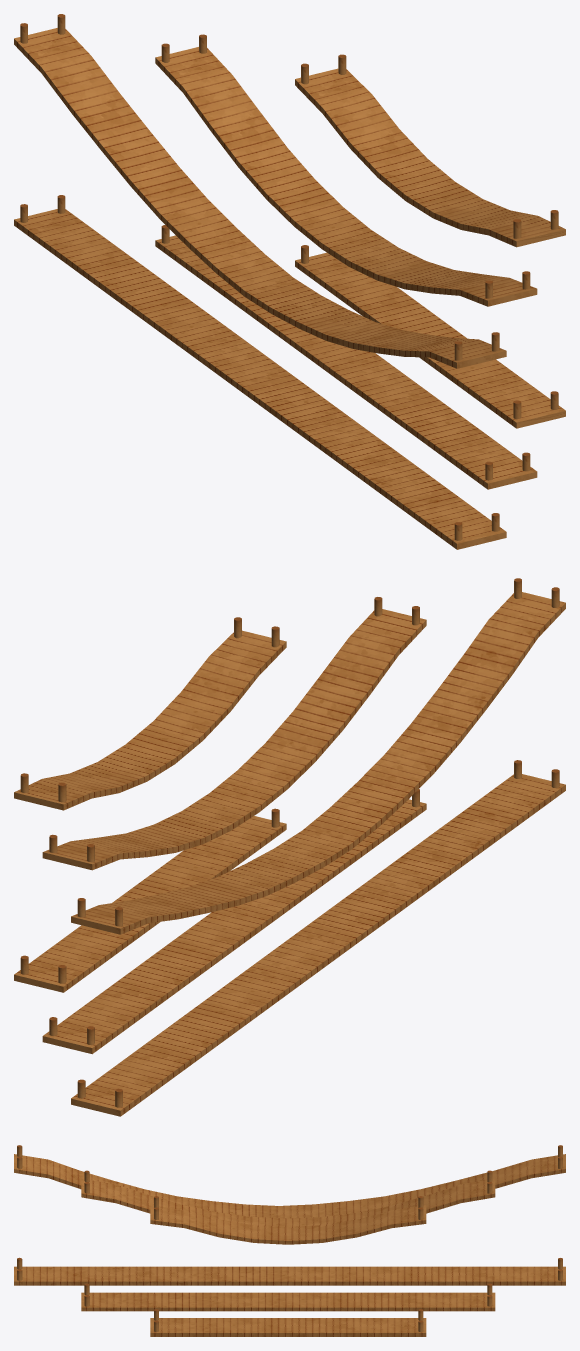
File: Bridges_V01.fbx
The picture shows the model from 3 angles, top to bottom: view 1: azimuth 30°, elevation 25°; view 2: azimuth 150°, elevation 25°; view 3: azimuth 270°, elevation 25°; orthographic projection. The views are drawn at different scales.
Visible parts, largest first — view 1: BigBridgeCurved, BigBridge, MidBridgeCurved, MidBridge, SmallBridgeCurved, SmallBridge; view 2: BigBridgeCurved, BigBridge, MidBridgeCurved, MidBridge, SmallBridgeCurved, SmallBridge; view 3: BigBridge, MidBridge, BigBridgeCurved, SmallBridge, SmallBridgeCurved, MidBridgeCurved.
Boxes of the visible parts, box(x1,y1,x2,y2) form: BigBridgeCurved: box(14, 14, 506, 368); BigBridge: box(14, 195, 506, 549); MidBridgeCurved: box(155, 34, 537, 306); MidBridge: box(155, 225, 537, 489); SmallBridgeCurved: box(295, 54, 565, 247); SmallBridge: box(295, 245, 565, 428); BigBridgeCurved: box(71, 578, 565, 934); BigBridge: box(71, 760, 565, 1116); MidBridgeCurved: box(42, 597, 426, 870); MidBridge: box(42, 789, 426, 1054); SmallBridgeCurved: box(14, 617, 286, 810); SmallBridge: box(14, 808, 286, 992); BigBridge: box(14, 1257, 565, 1285); MidBridge: box(81, 1283, 495, 1311); BigBridgeCurved: box(14, 1145, 565, 1218); SmallBridge: box(150, 1309, 426, 1336); SmallBridgeCurved: box(150, 1196, 426, 1244); MidBridgeCurved: box(81, 1170, 495, 1226).
Size of the model in its own units: 1510 by 1342 by 5311.
